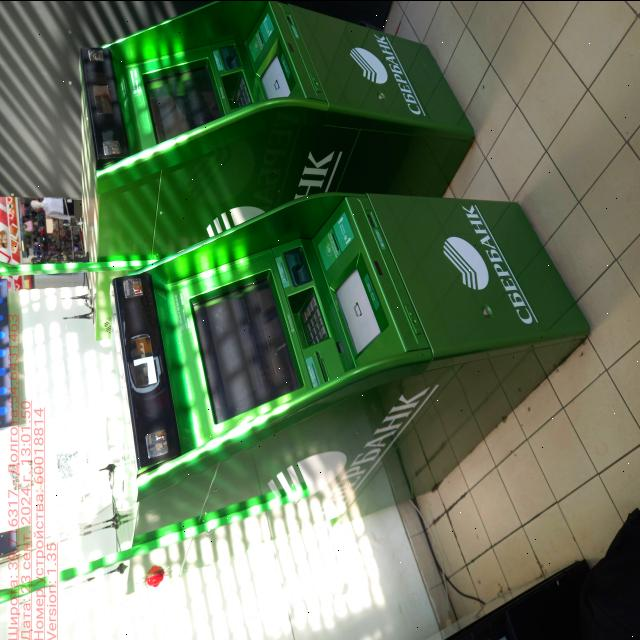bank: (112, 186, 582, 588), (80, 0, 478, 329)
